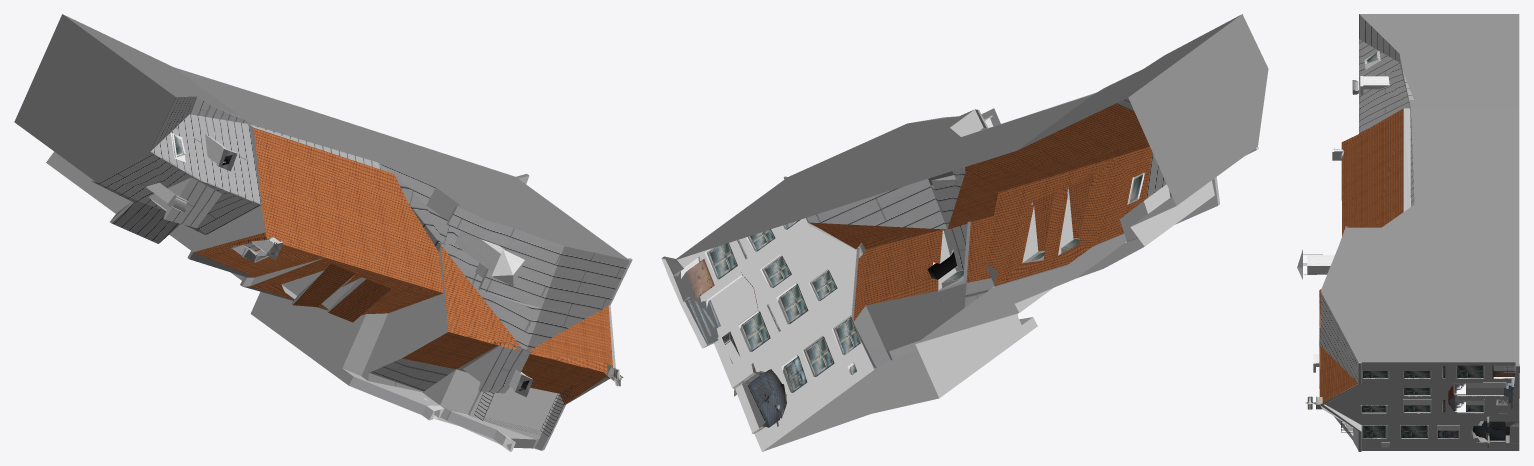
Rendered from Rataskaevu_16-origo.obj.
The picture shows the model from 3 angles, left to right: view 1: azimuth 30°, elevation 25°; view 2: azimuth 150°, elevation 25°; view 3: azimuth 270°, elevation 25°; orthographic projection. The views are drawn at different scales.
Visible parts, largest first — view 1: Rataskaevu_16; view 2: Rataskaevu_16; view 3: Rataskaevu_16.
Part boxes in pixels (left/top/right/bottom): Rataskaevu_16: left=14, top=14, right=632, bottom=451; Rataskaevu_16: left=661, top=14, right=1268, bottom=451; Rataskaevu_16: left=1297, top=14, right=1519, bottom=451.
Size of the model in its own units: 33.56 by 27.5 by 17.83.
